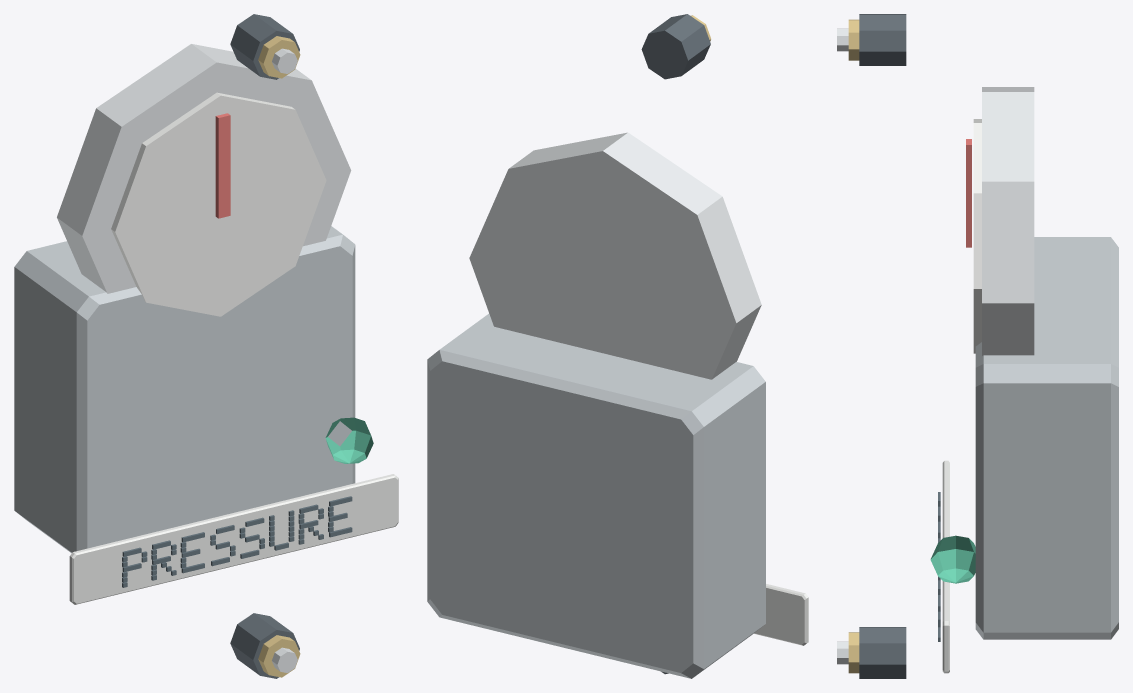
File: pressureSwitch.glb
3 views of the same model, side by side, from view 1: azimuth 30°, elevation 25°; view 2: azimuth 150°, elevation 25°; view 3: azimuth 270°, elevation 25° (orthographic). The views are drawn at different scales.
Parts seen in each view (by area): view 1: pressureSwitch-board; view 2: pressureSwitch-board; view 3: pressureSwitch-board.
Part boxes in pixels (<box>): pressureSwitch-board: <box>14,14,398,678</box>; pressureSwitch-board: <box>427,14,808,678</box>; pressureSwitch-board: <box>837,14,1118,678</box>.
Size of the model in its own units: 1.33 by 2.52 by 0.973.
